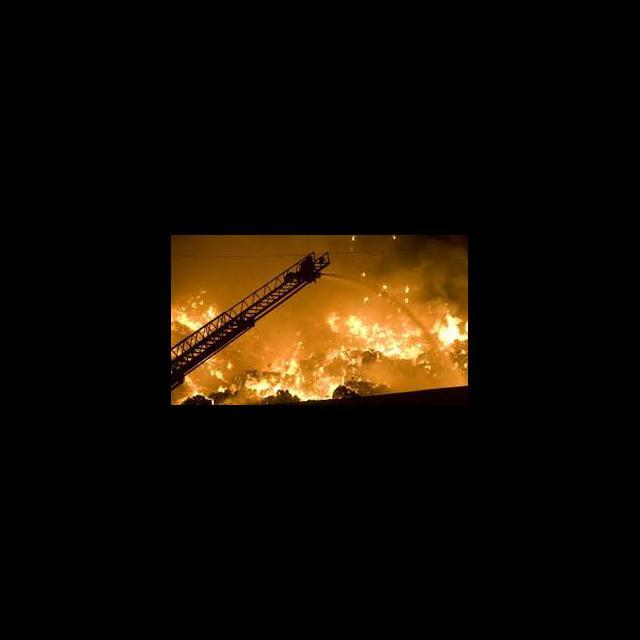Fire: (327, 292, 468, 368), (245, 337, 352, 404), (184, 352, 236, 404), (172, 286, 218, 330)
